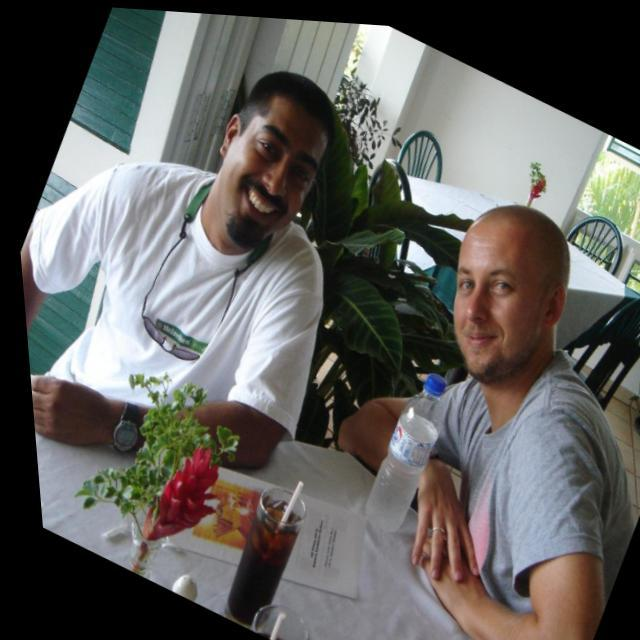Nonhelmet: (192, 59, 336, 264), (446, 201, 572, 383)
